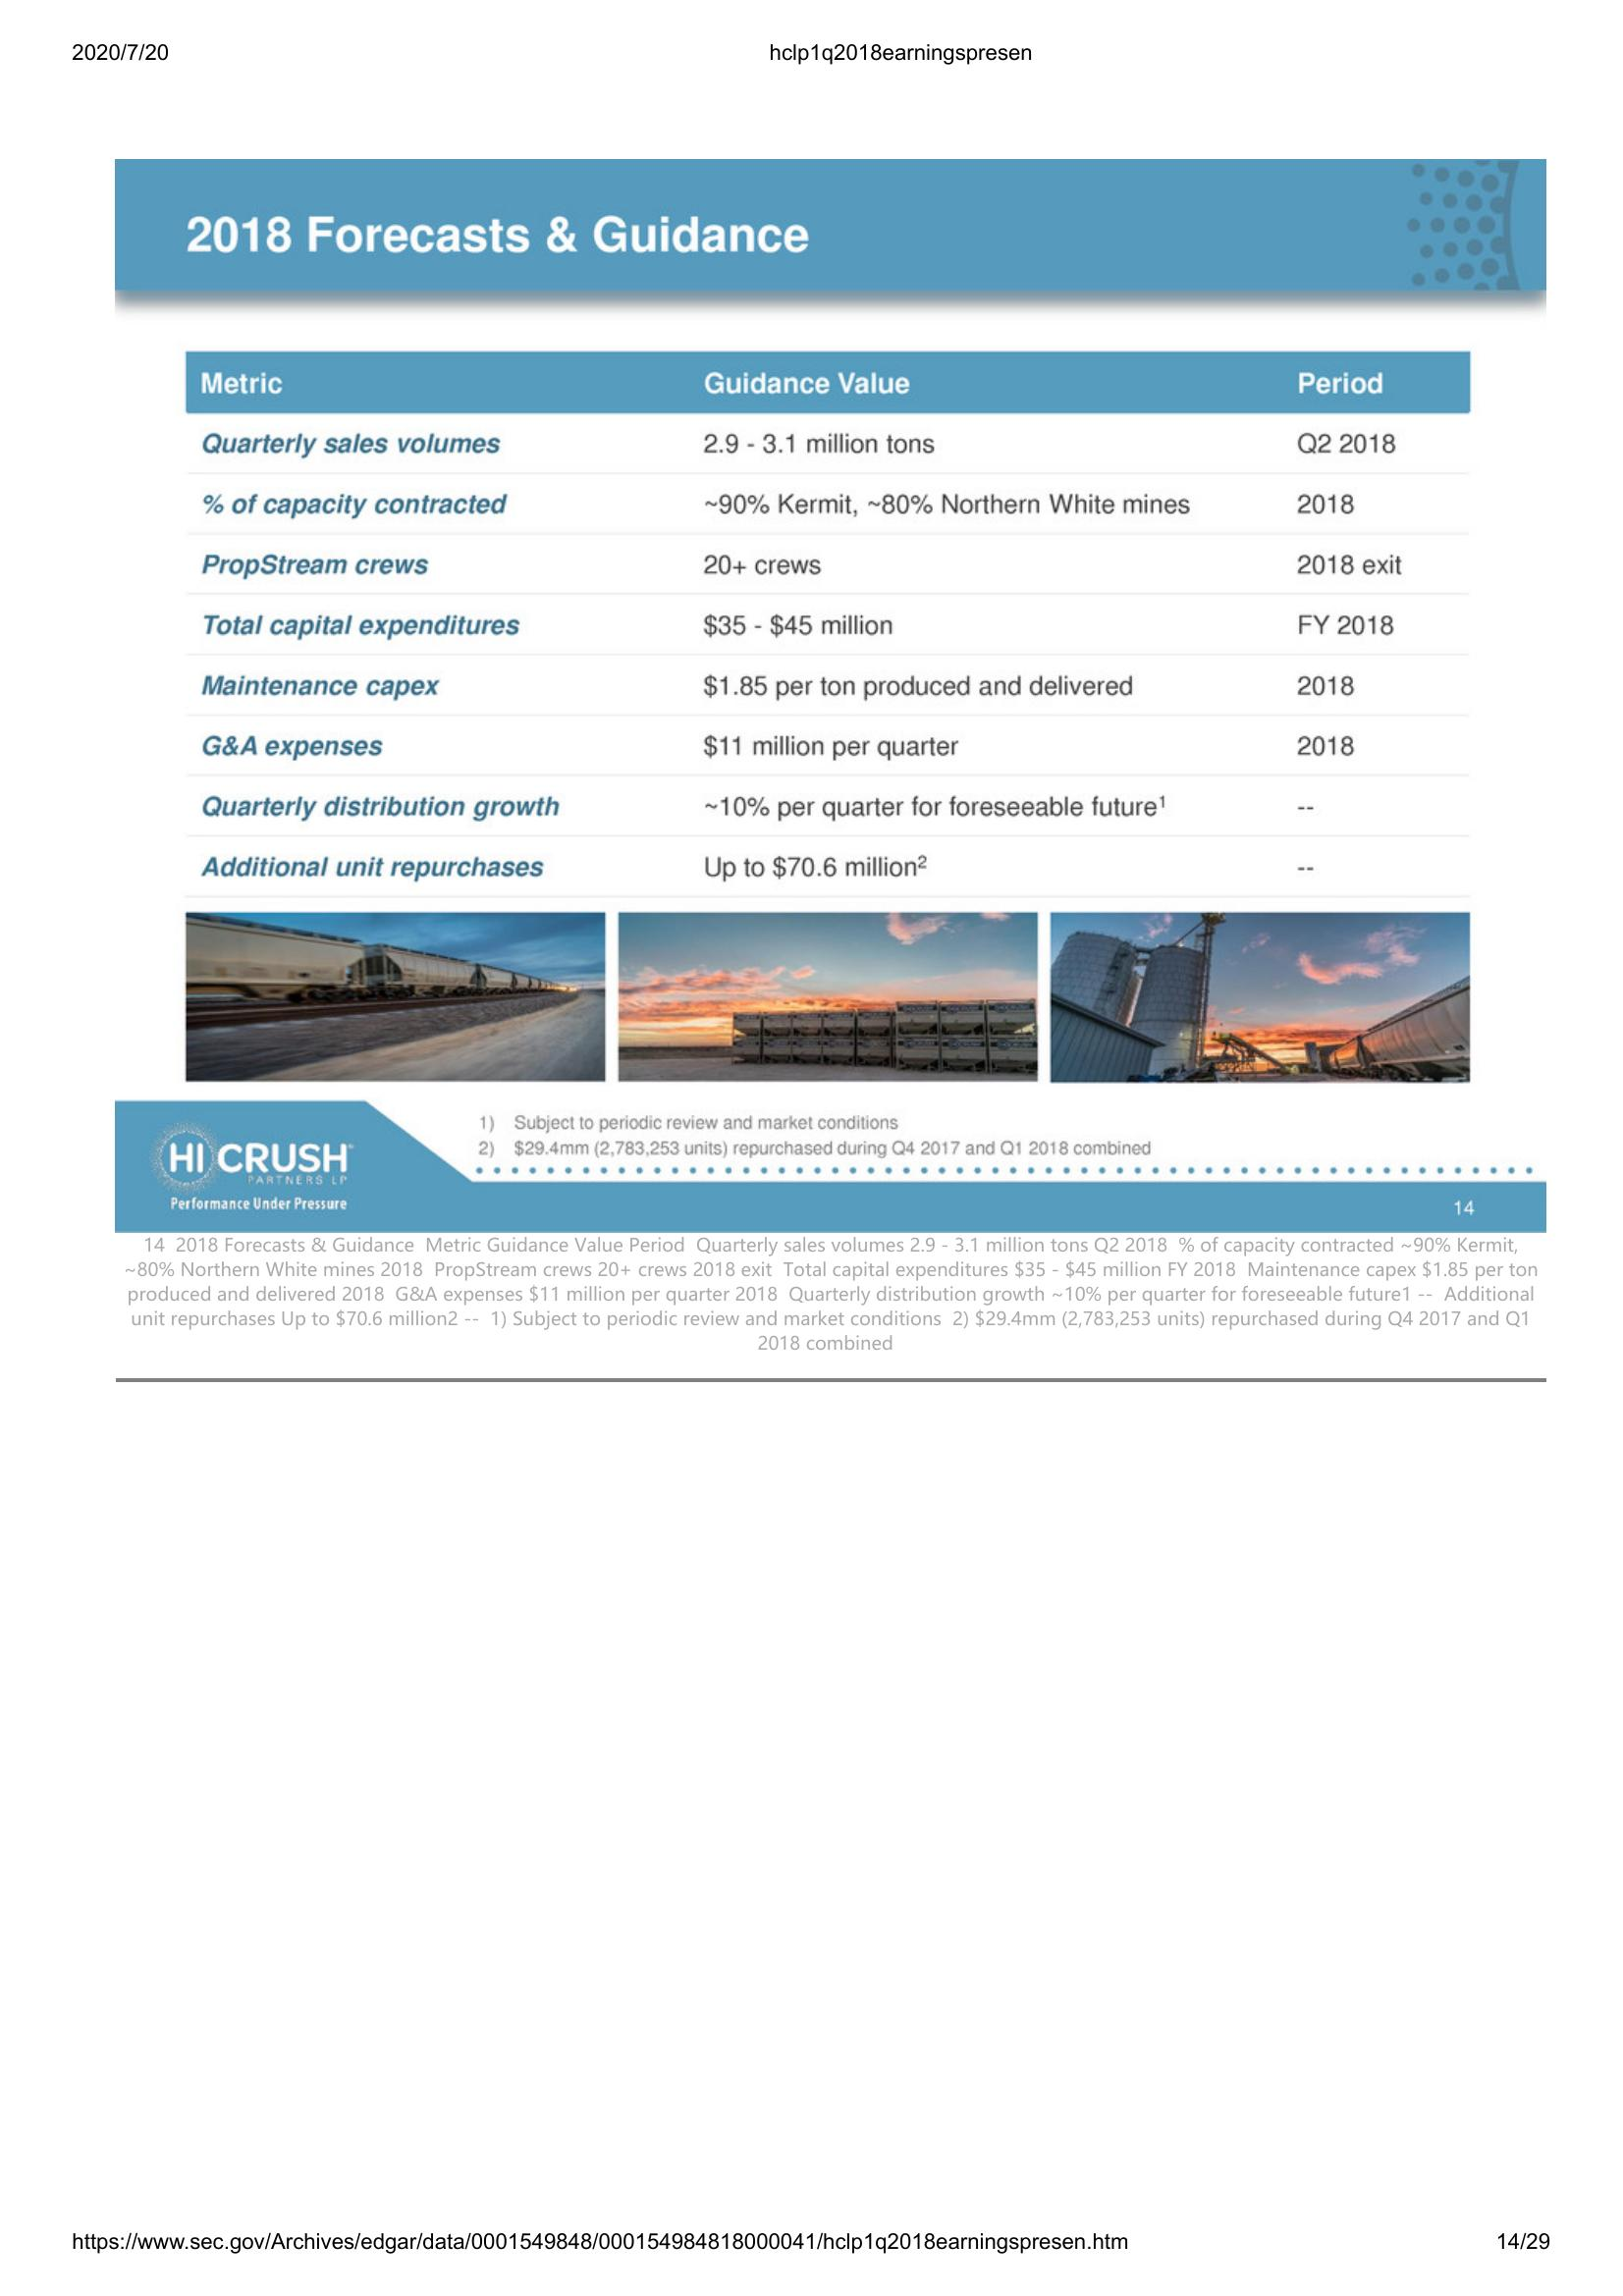table: (181, 348, 1475, 888)
